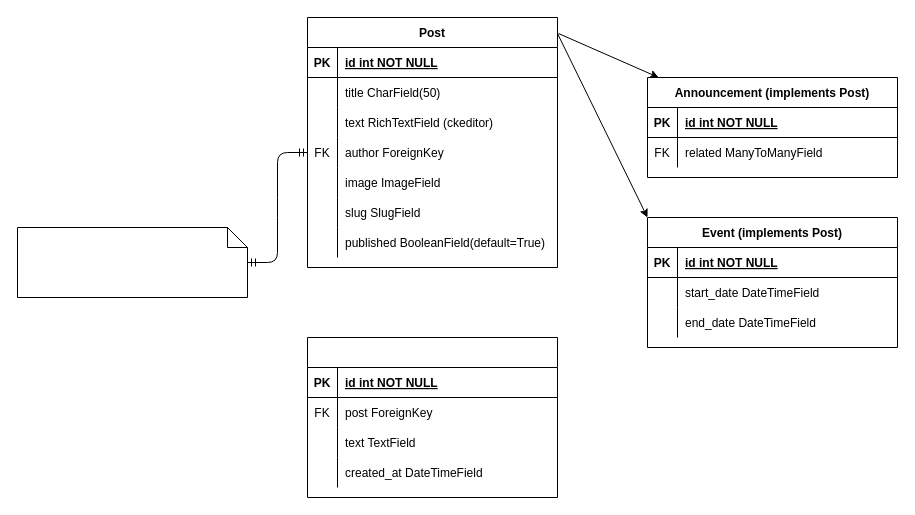
The diagram is 915 pixels wide and 515 high, and some of its shapes have lost their labels. The shapes that lost their labels are listed below. From the top down, each one's box as (x1, y1, x2, y2) in pixels, then its label:
(16, 226, 248, 298): django.contrib.auth.models.User
(306, 336, 558, 498): Note
